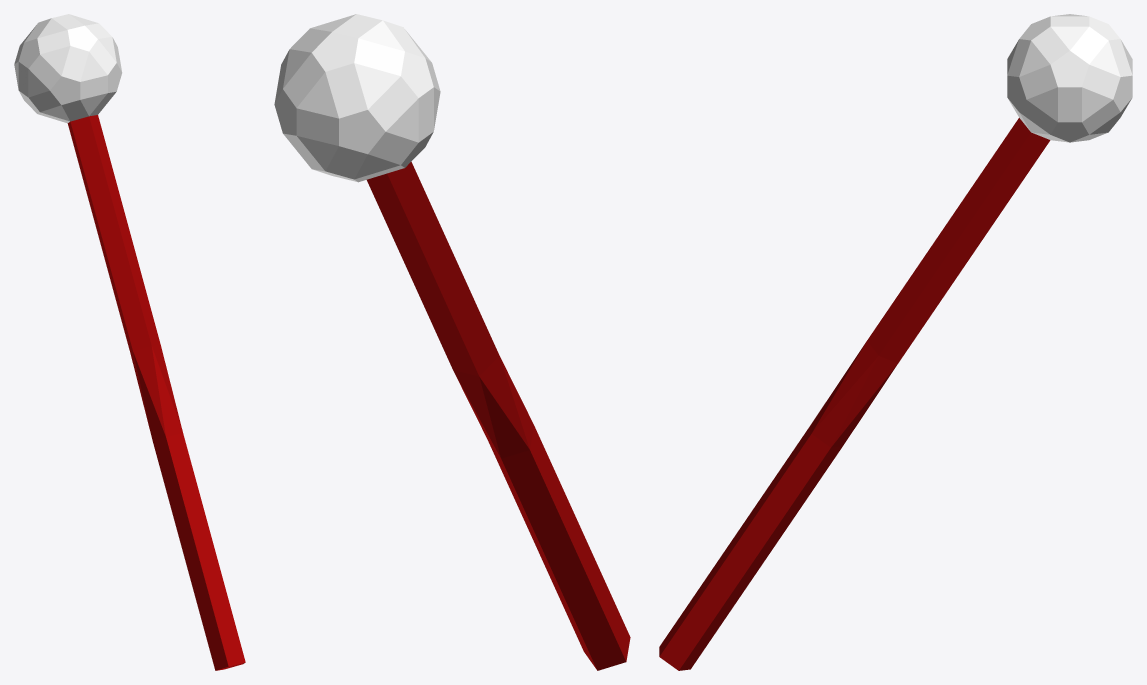
The picture shows the model from 3 angles, left to right: view 1: azimuth 30°, elevation 25°; view 2: azimuth 150°, elevation 25°; view 3: azimuth 270°, elevation 25°; orthographic projection. The views are drawn at different scales.
Visible parts, largest first — view 1: instance0, instance1; view 2: instance0, instance1; view 3: instance0, instance1.
Part boxes in pixels (x1,y1,x2,y2): instance0: [67, 115, 245, 670]; instance1: [14, 14, 122, 123]; instance0: [367, 161, 630, 670]; instance1: [274, 14, 440, 182]; instance0: [659, 118, 1050, 670]; instance1: [1007, 14, 1132, 142].
Size of the model in its own units: 2 by 11.4 by 7.55.
